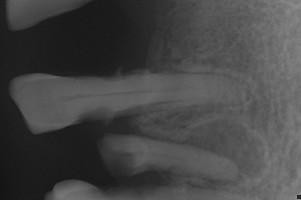Furcation Involvement: (183, 119, 269, 187)
